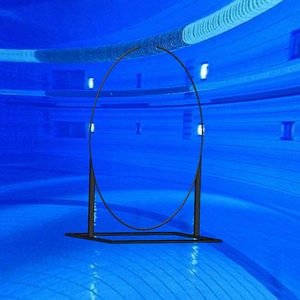circle: (65, 45, 223, 244)
